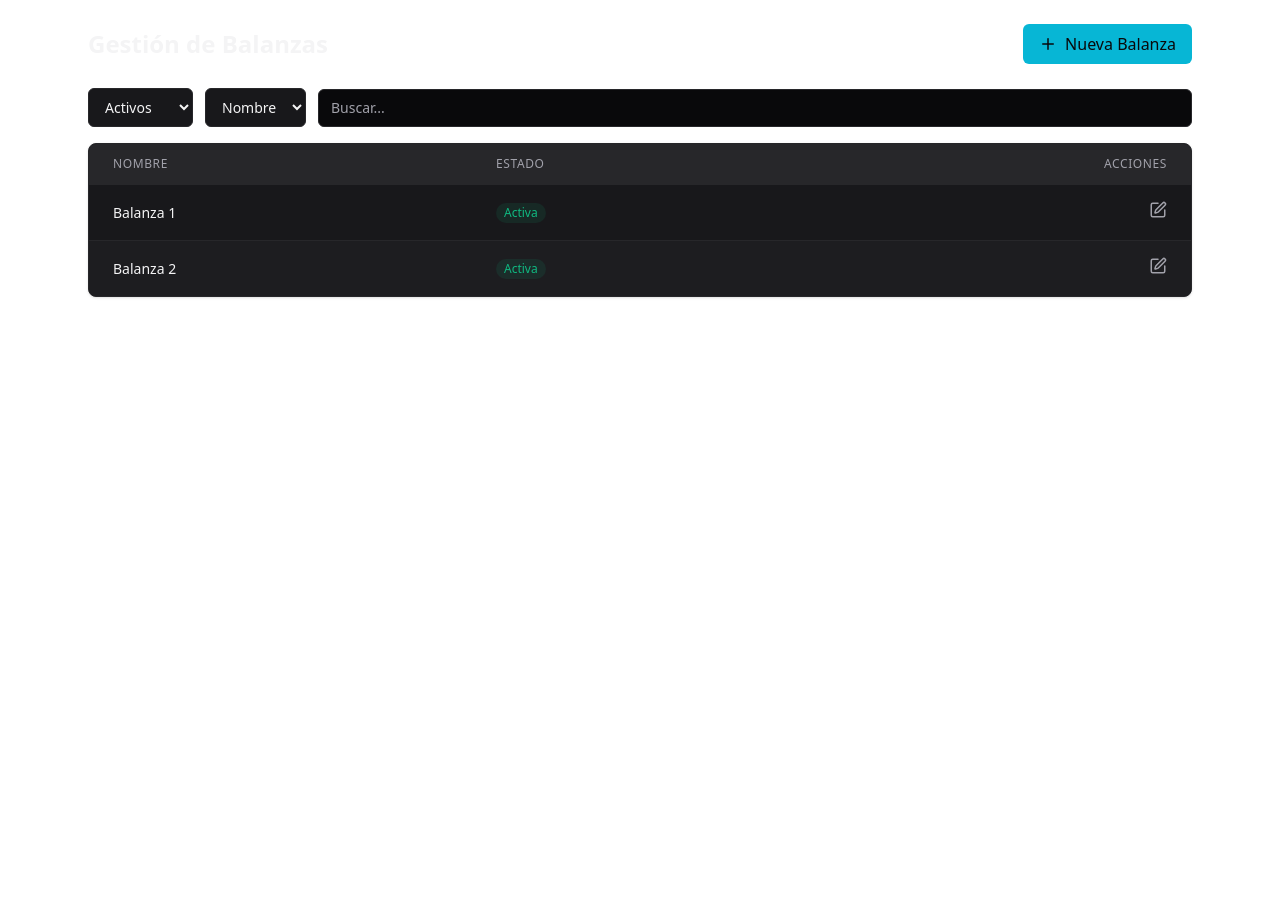
Test: BalanzasPage › edit modal for inactive balanza renders "Activar Balanza" button; active does not
This screenshot has width=1280, height=900.
Expected: the text "Balanza 1" is shown, [89,184,472,240]
Click the button titled "Editar" in the row of "Balanza 1" at point(1158, 210), box [1149,201,1167,219]
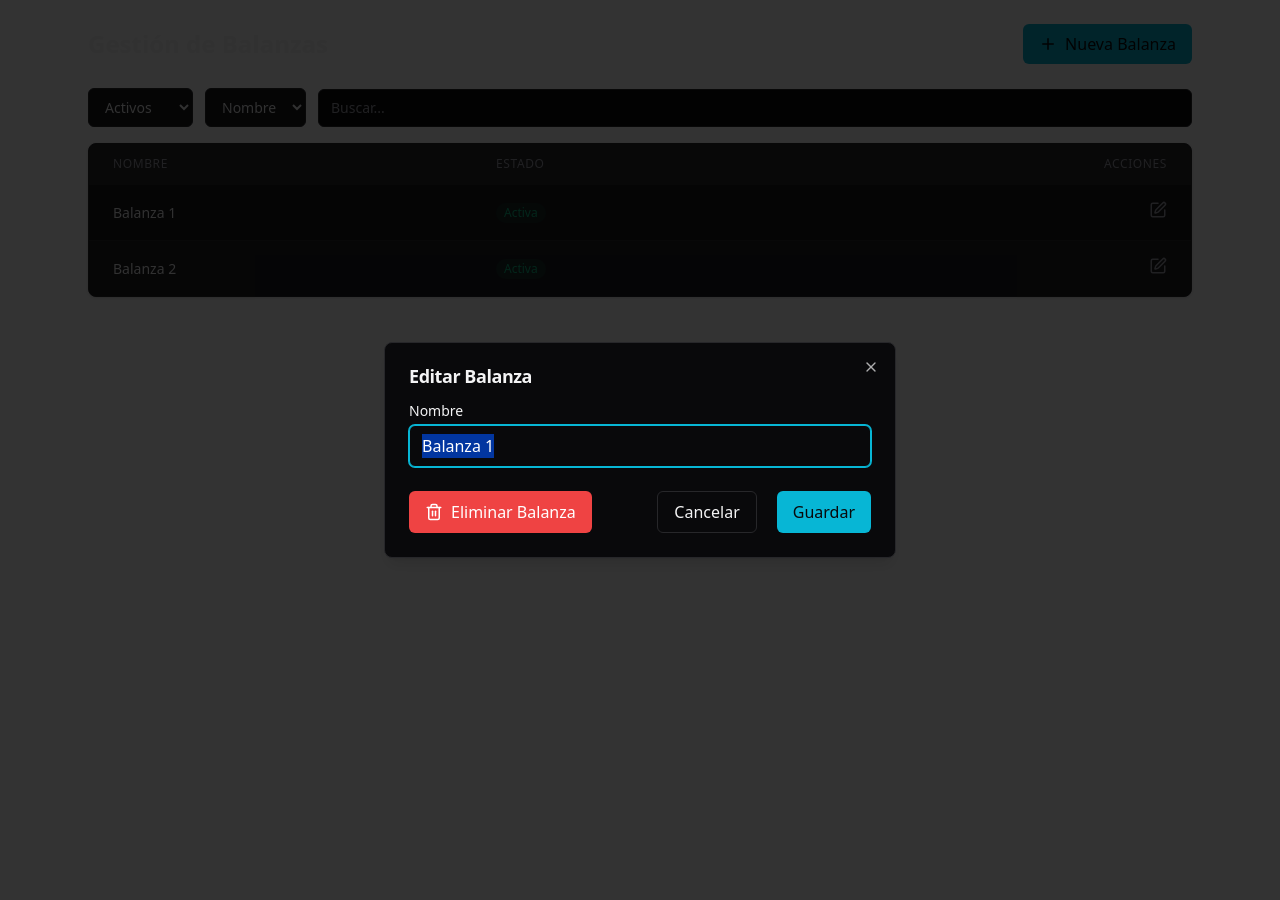
Expected: the button "Activar Balanza" is not shown
Click the button "Cancelar" at point(707, 512), box [657,491,757,533]
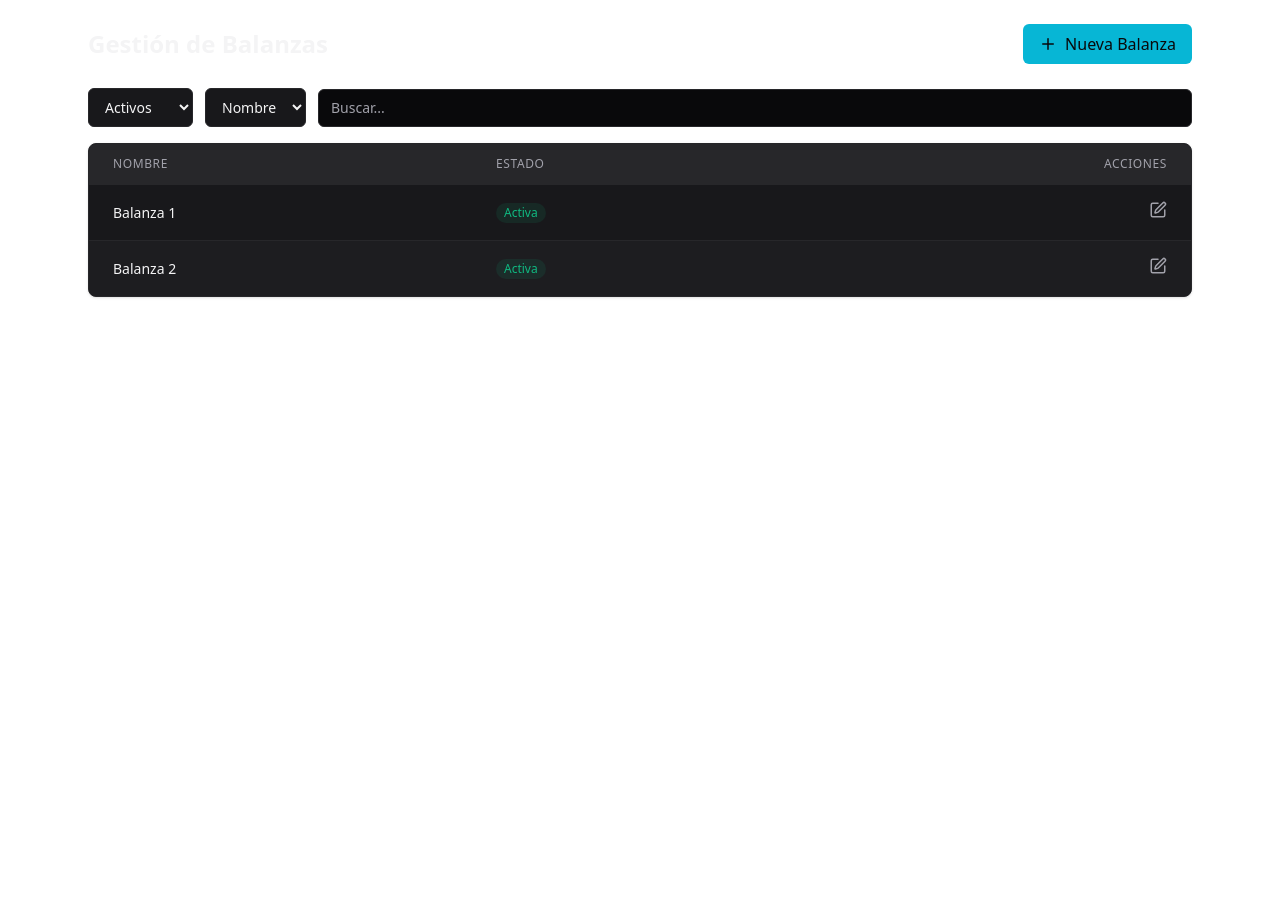
Select "Inactivos" in the 1st dropdown at point(140, 108), box [88,88,193,127]
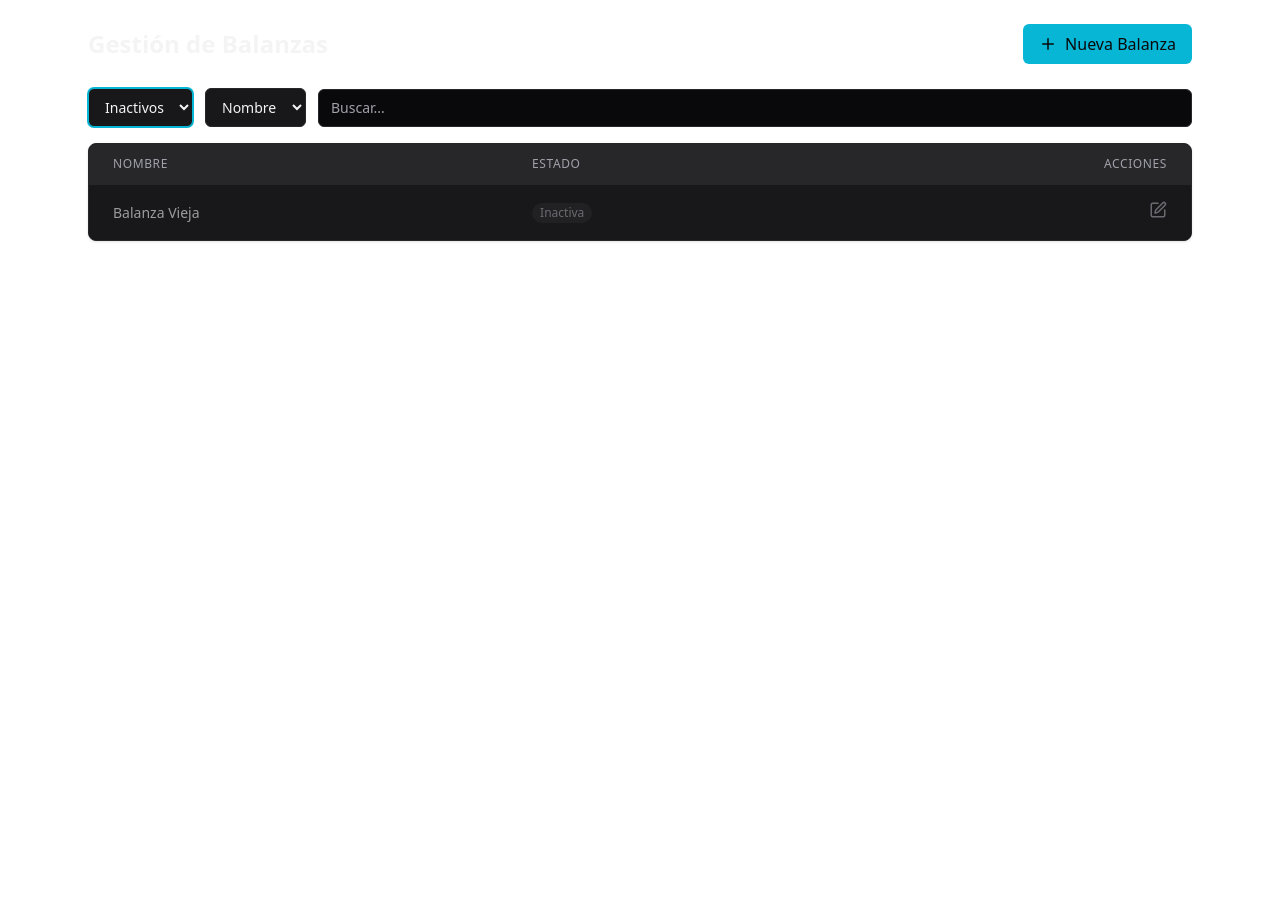
Expected: the text "Balanza Vieja" is shown, [89,184,508,240]
Click the button titled "Editar" at point(1158, 210), box [1149,201,1167,219]
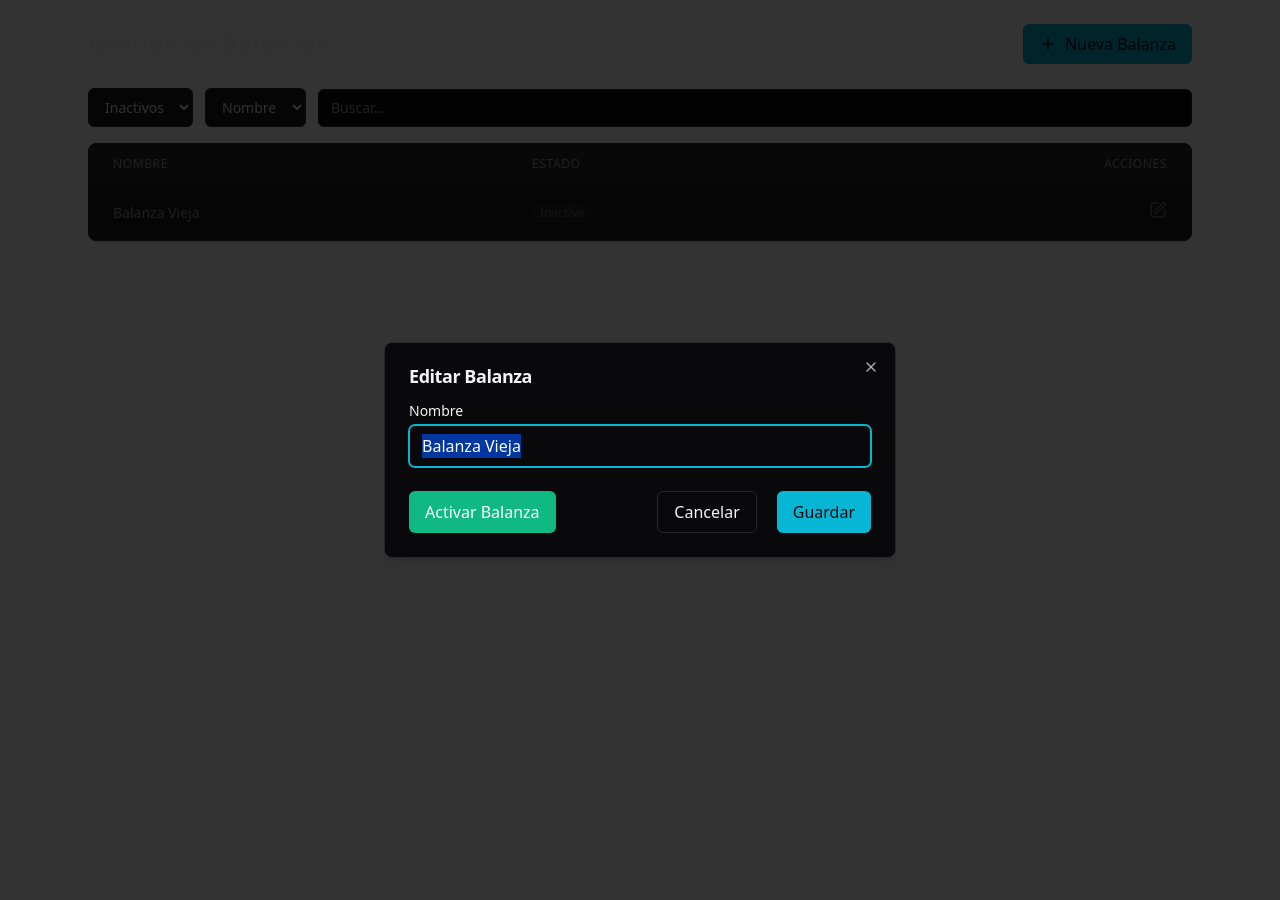
Expected: the button "Activar Balanza" is shown, [409,491,556,533]
